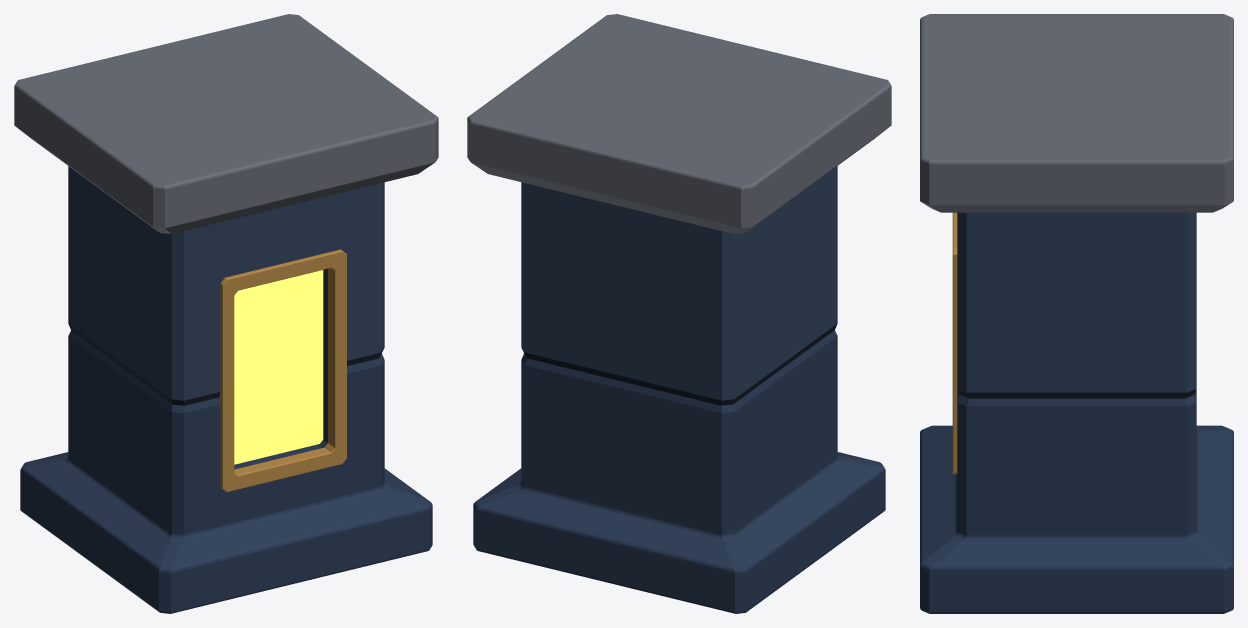
The model's file is post.glb.
3 views of the same model, side by side, from view 1: azimuth 30°, elevation 25°; view 2: azimuth 150°, elevation 25°; view 3: azimuth 270°, elevation 25° (orthographic). The views are drawn at different scales.
Visible parts, largest first — view 1: Framing | post stone pier, Framing | post inset amber lens, Framing | post warm metal bezel; view 2: Framing | post stone pier; view 3: Framing | post stone pier, Framing | post warm metal bezel.
Part boxes in pixels (x1,y1,x2,y2): Framing | post stone pier: (14, 14, 438, 613); Framing | post inset amber lens: (234, 270, 323, 464); Framing | post warm metal bezel: (219, 249, 346, 492); Framing | post stone pier: (467, 14, 891, 613); Framing | post stone pier: (920, 14, 1233, 613); Framing | post warm metal bezel: (952, 212, 957, 474).
Bounding box in the file's own units: 0.94 × 1.35 × 0.84.
